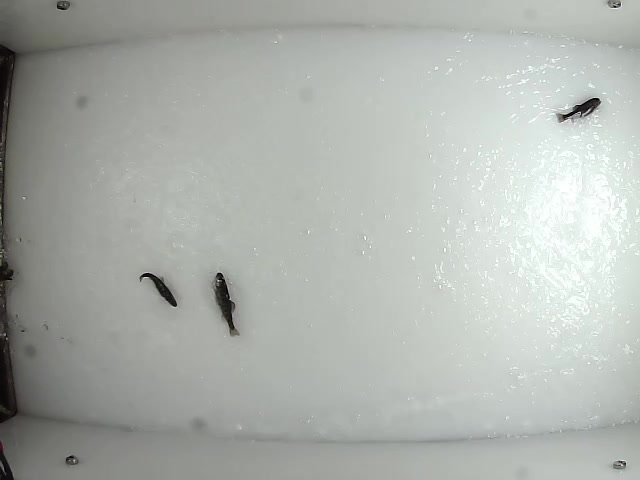fish: (211, 271, 241, 338), (134, 270, 180, 308), (552, 95, 601, 125)
